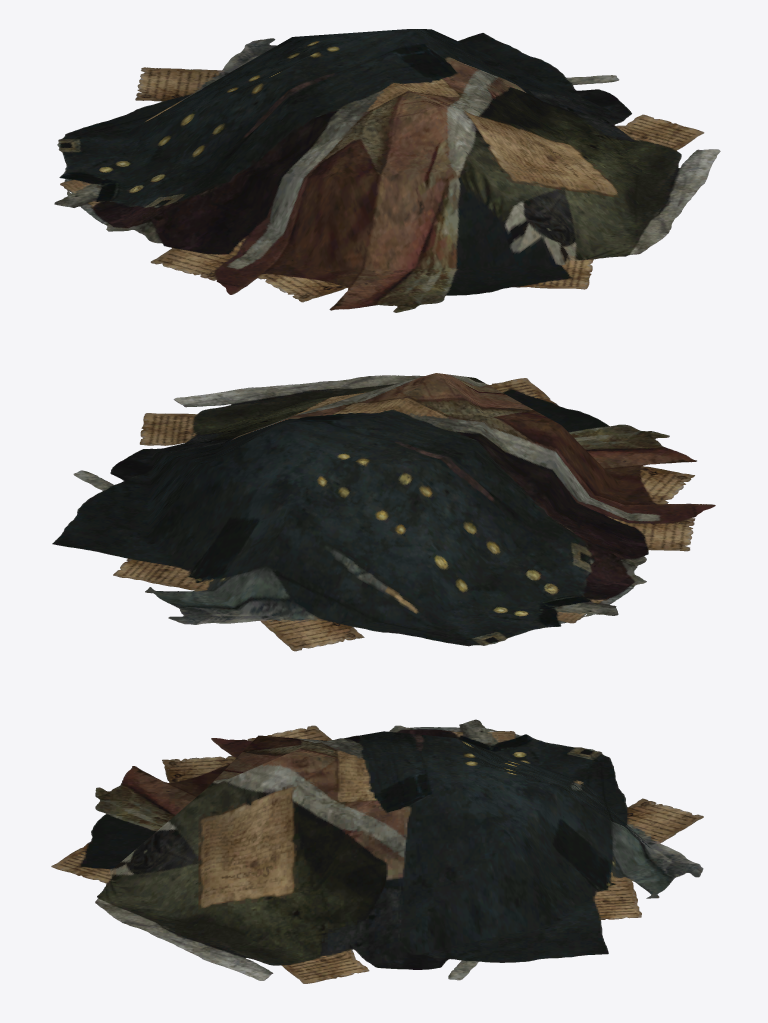
File: cloth_pile.dae
The picture shows the model from 3 angles, top to bottom: view 1: azimuth 30°, elevation 25°; view 2: azimuth 150°, elevation 25°; view 3: azimuth 270°, elevation 25°; orthographic projection. The views are drawn at different scales.
Visible parts, largest first — view 1: polySurface2; view 2: polySurface2; view 3: polySurface2.
Part boxes in pixels (x1,y1,x2,y2): polySurface2: [54, 29, 720, 312]; polySurface2: [52, 373, 715, 651]; polySurface2: [51, 719, 703, 983].
Bounding box in the file's own units: 1.87 × 0.2709 × 1.87.
